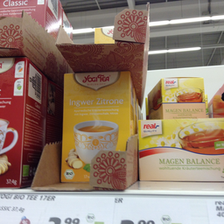tea: (61, 71, 131, 183), (147, 75, 209, 119)
